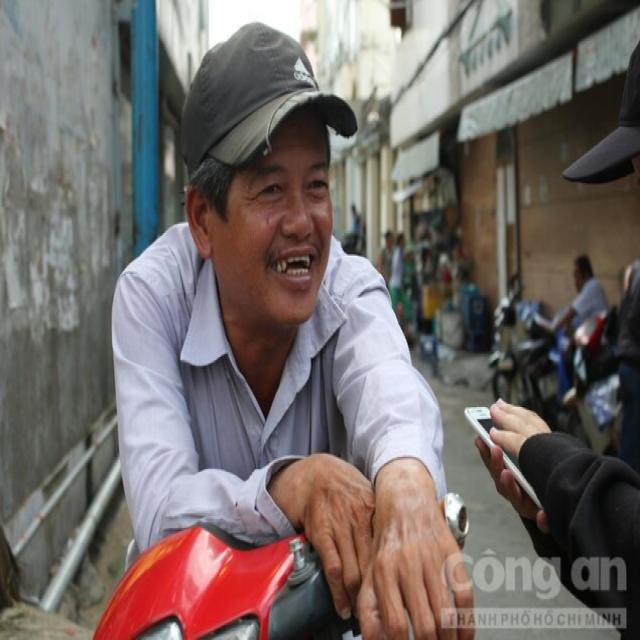Nonhelmet: (177, 17, 357, 339)
